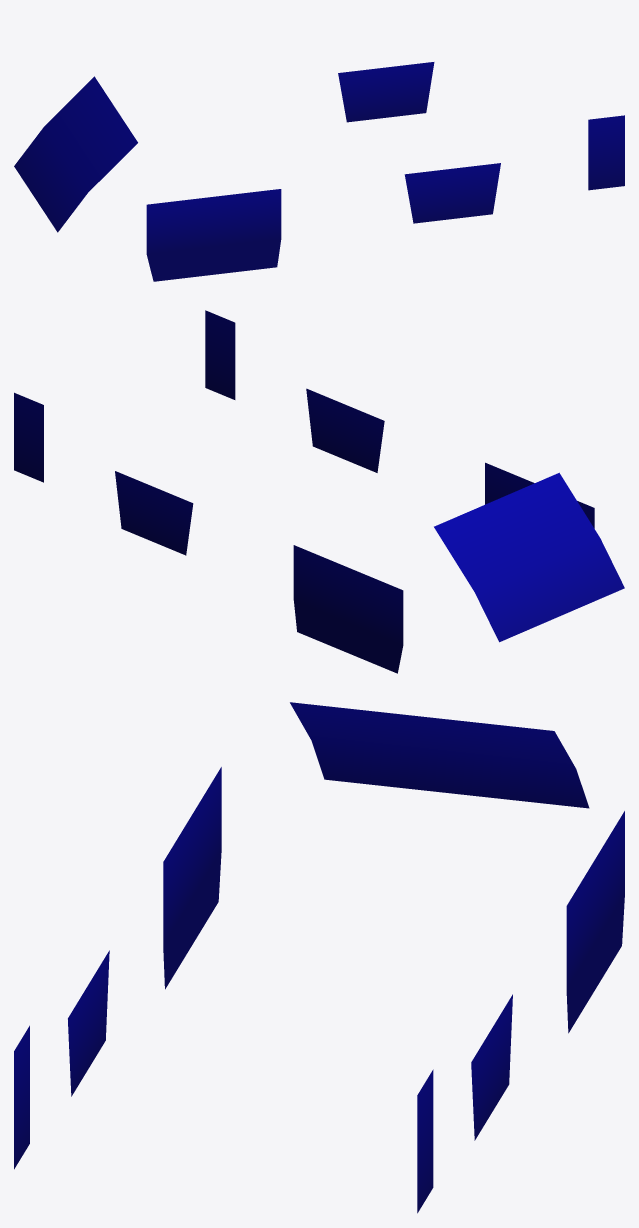
File: windowRefl.102.fbx
3 views of the same model, one above another, from view 1: azimuth 30°, elevation 25°; view 2: azimuth 150°, elevation 25°; view 3: azimuth 270°, elevation 25° (orthographic). The views are drawn at different scales.
Parts seen in each view (by area): view 1: windowRefl.102; view 2: windowRefl.102; view 3: windowRefl.102.
Boxes of the visible parts, x1,y1,x2,y2 form: windowRefl.102: [14, 62, 624, 281]; windowRefl.102: [14, 310, 624, 673]; windowRefl.102: [14, 702, 624, 1213].
Bounding box in the file's own units: 344 × 575 × 127.
